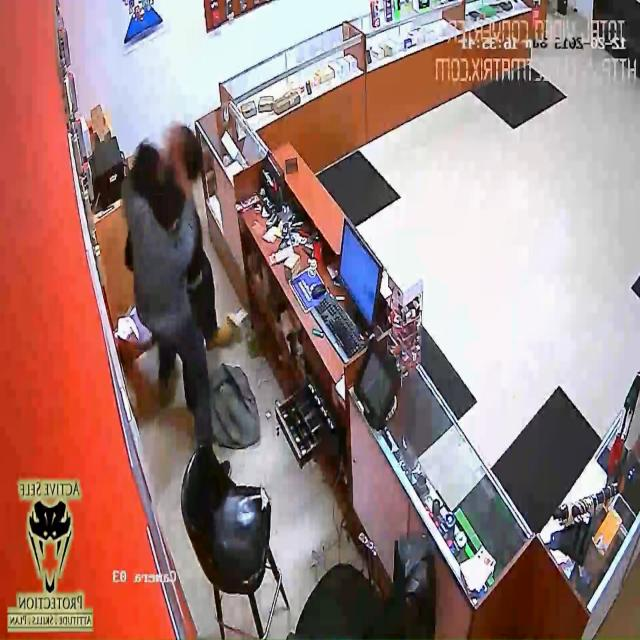fight: (132, 115, 228, 442)
